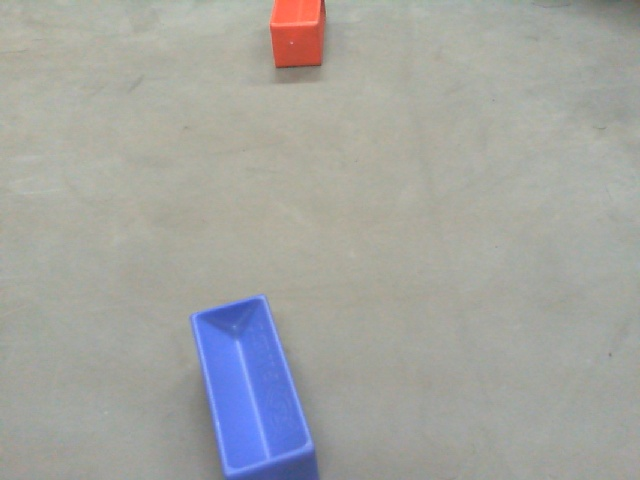BlueSample: (188, 291, 317, 480)
RedSample: (267, 1, 329, 75)
